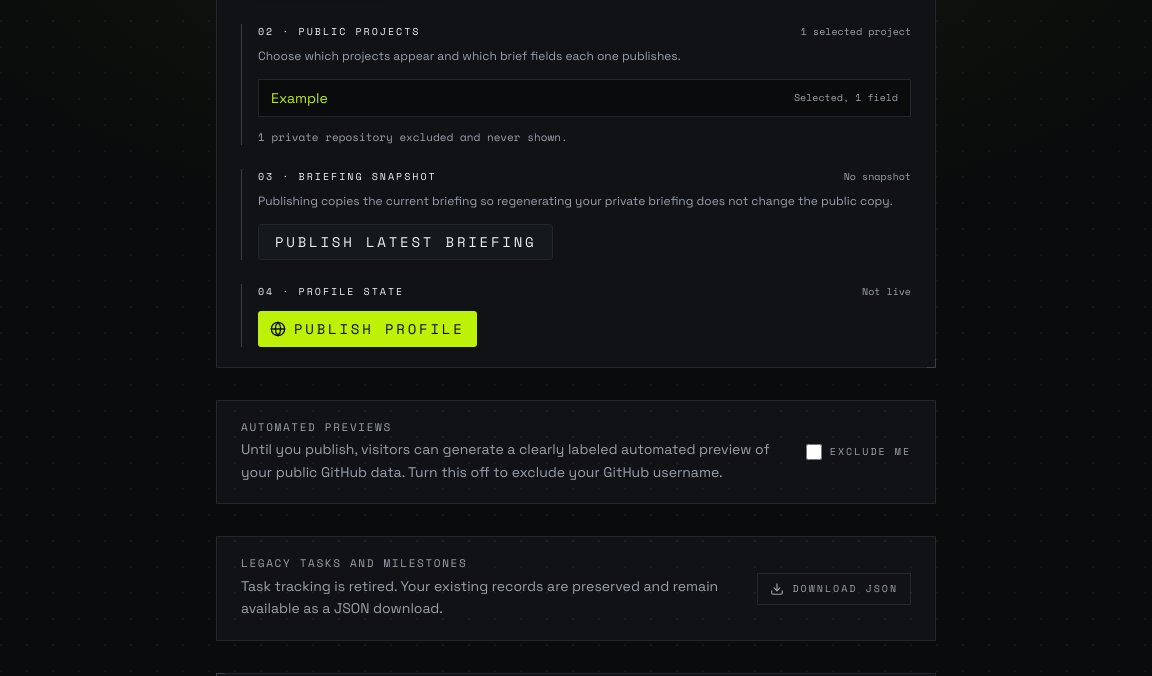
Scenario: saves the profile URL and then allows publishing
(page scrolled)
Click the button "Publish profile": (367, 329) [258, 311, 476, 347]
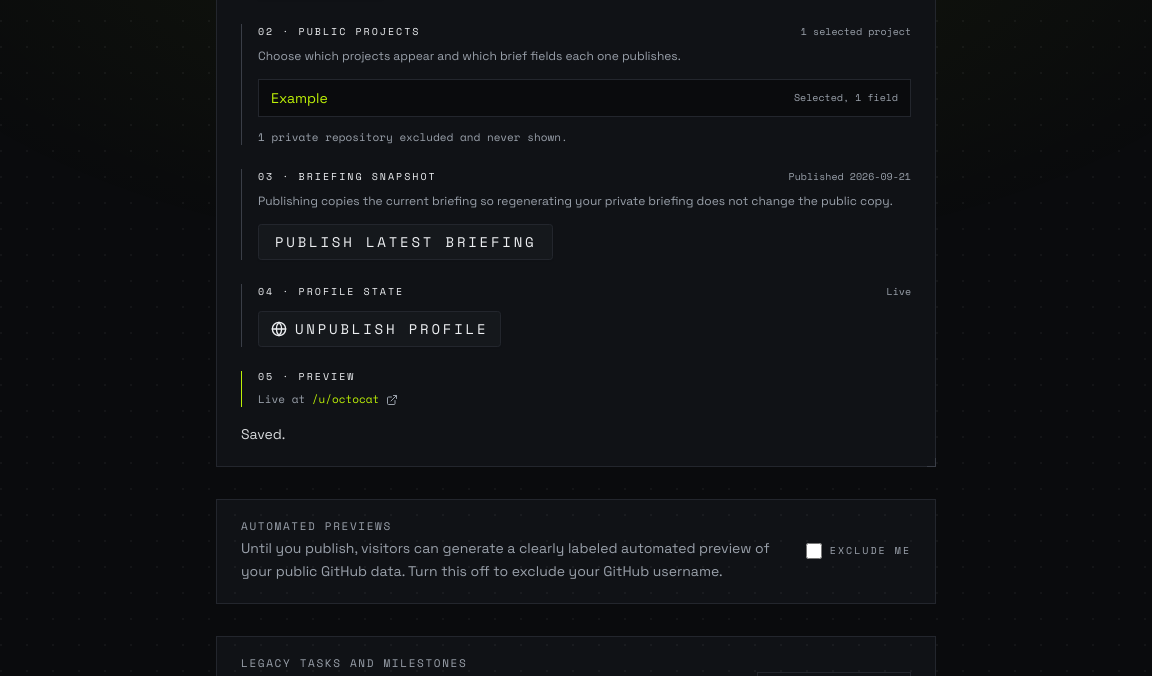
Expected: the button "Unpublish profile" is enabled, [258, 311, 501, 347]
Expected: the message reads "Saved.", [241, 425, 285, 443]
Expected: the link "/u/octocat" is shown, [312, 391, 379, 407]
